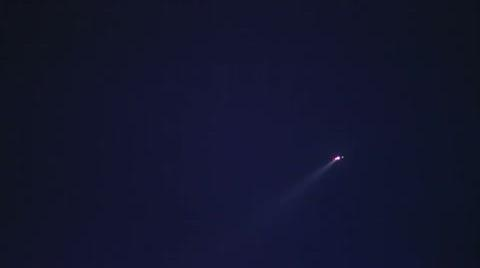Plane: (286, 144, 360, 192)
